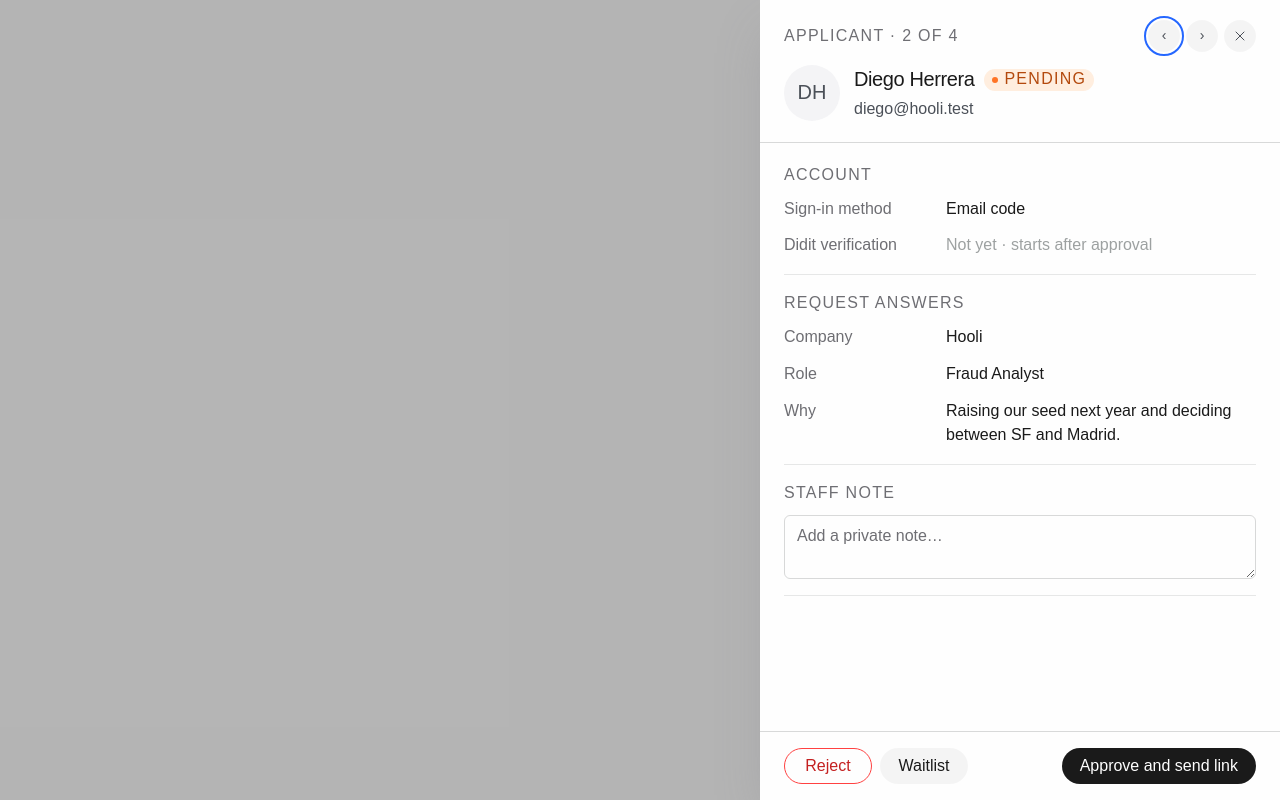
Test: applicant drawer host › a decision advances to the next applicant in place and drops what was cached
The width and height of the screenshot is (1280, 800).
Click the button "Approve and send link": [1159, 766] box [1062,748,1256,784]
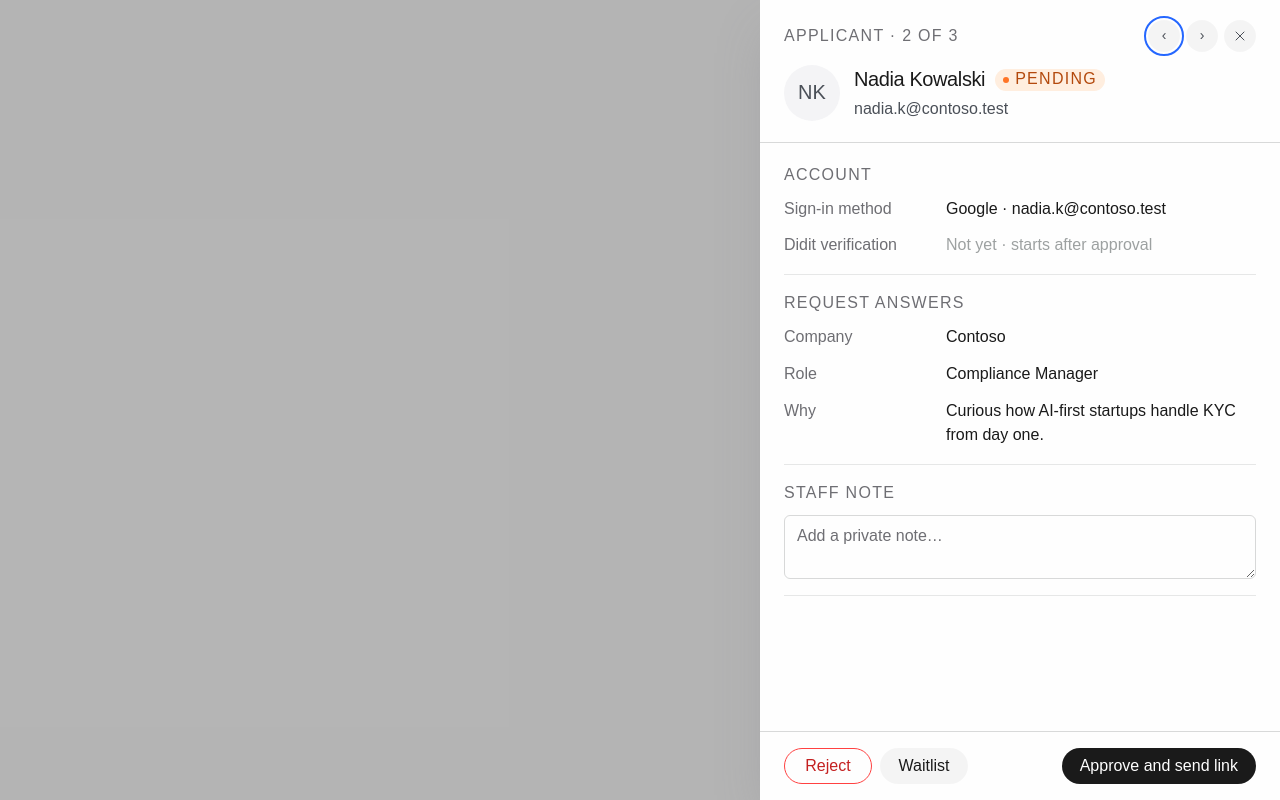
Now the dialog shows "Nadia Kowalski", box [854,68,985,90]
Now the dialog shows "Applicant · 2 of 3", box [784,27,959,44]
